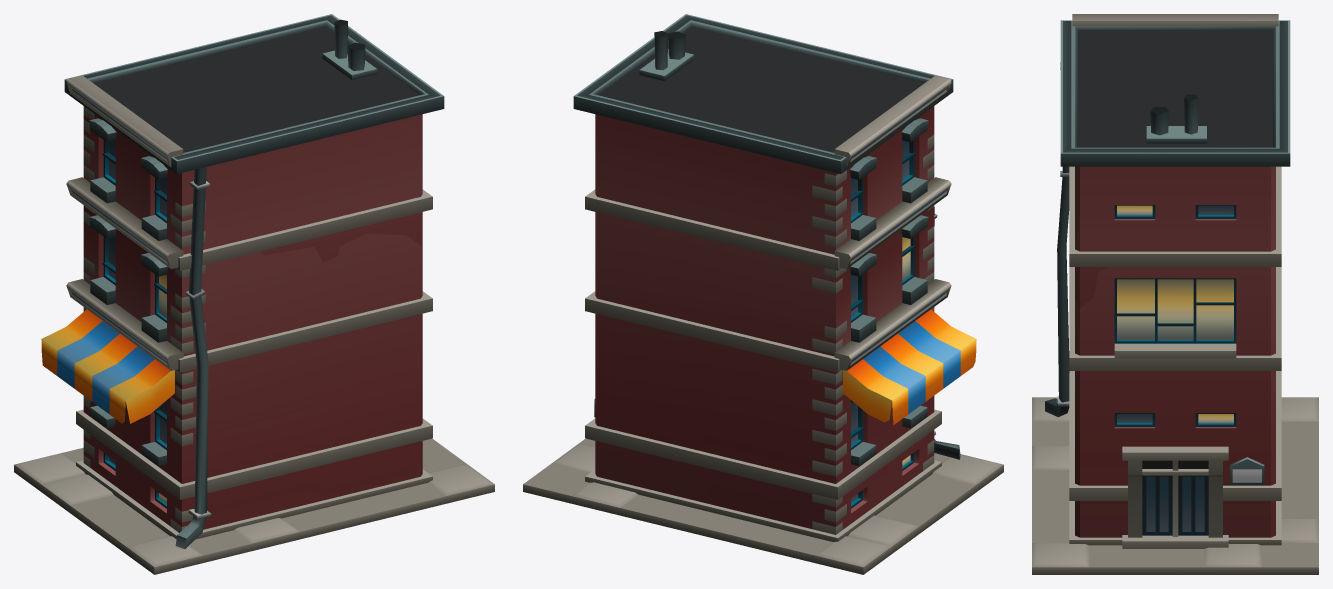
File: Building_5E.fbx
The picture shows the model from 3 angles, left to right: view 1: azimuth 30°, elevation 25°; view 2: azimuth 150°, elevation 25°; view 3: azimuth 270°, elevation 25°; orthographic projection. The views are drawn at different scales.
Parts seen in each view (by area): view 1: Building_5E, Shed_5E; view 2: Building_5E, Shed_5E; view 3: Building_5E, Window_Lights_5E.
Part boxes in pixels (x1,y1,x2,y2): Building_5E: (14, 14, 494, 574); Shed_5E: (41, 309, 174, 423); Building_5E: (523, 14, 1003, 574); Shed_5E: (843, 309, 976, 424); Building_5E: (1032, 14, 1318, 574); Window_Lights_5E: (1117, 205, 1233, 423).
Bounding box in the file's own units: 1403 × 1693 × 1000.
